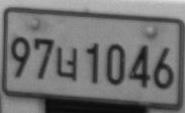0: (105, 42, 125, 86)
1: (84, 42, 104, 84)
4: (127, 44, 151, 88)
6: (152, 46, 174, 89)
7: (33, 37, 54, 79)
9: (9, 35, 31, 78)
너: (56, 46, 78, 81)
